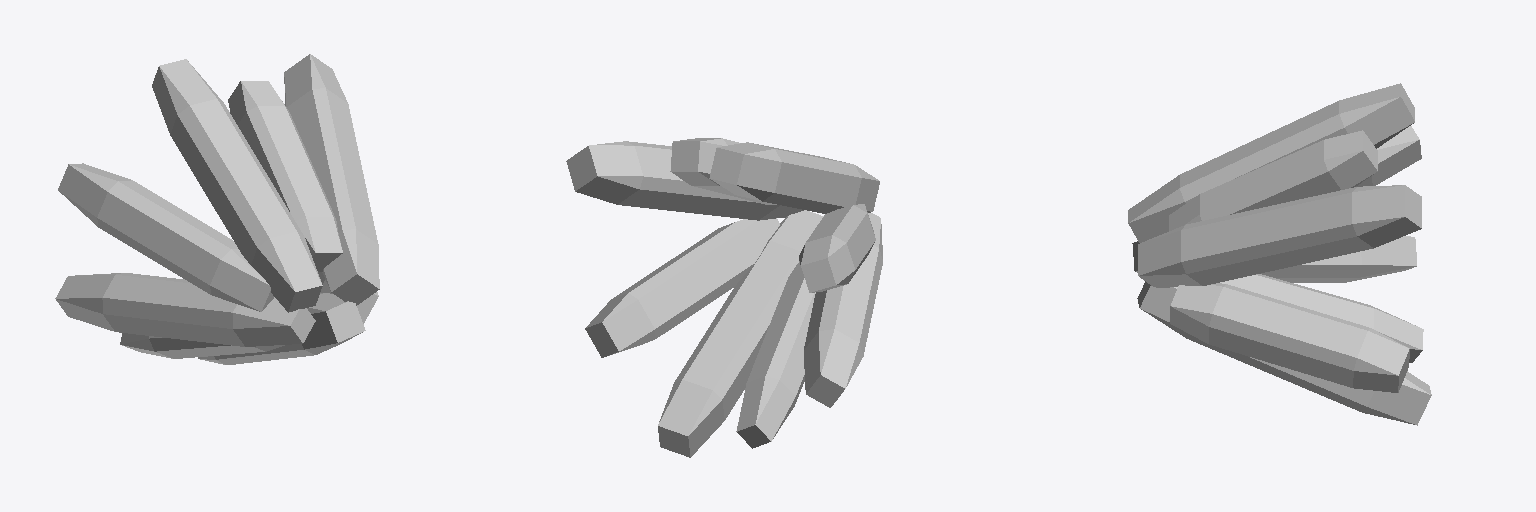
The model's file is firelogs.obj.
The picture shows the model from 3 angles: view 1: azimuth 30°, elevation 25°; view 2: azimuth 150°, elevation 25°; view 3: azimuth 270°, elevation 25°; orthographic projection.
Parts seen in each view (by area): view 1: Cube.002; view 2: Cube.002; view 3: Cube.002.
Part boxes in pixels (bbox=[...]): Cube.002: bbox=[55, 54, 379, 364]; Cube.002: bbox=[566, 138, 882, 457]; Cube.002: bbox=[1128, 83, 1431, 425].
Bounding box in the file's own units: 1 × 1.07 × 0.9463.